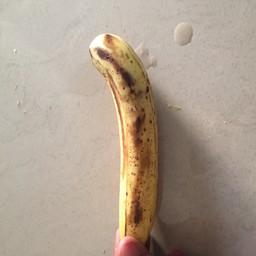Banana Ripe: (74, 25, 194, 256)
